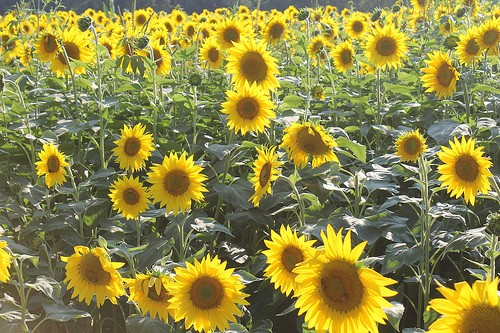flower: (288, 224, 403, 331), (161, 254, 252, 331), (59, 236, 128, 309), (424, 267, 500, 332), (260, 223, 322, 298), (434, 134, 496, 206), (145, 150, 211, 216), (222, 35, 282, 99), (218, 78, 277, 137), (277, 120, 339, 172), (48, 23, 95, 83), (247, 143, 287, 208), (361, 23, 410, 72), (418, 47, 463, 100), (111, 122, 158, 172), (106, 173, 150, 222), (33, 141, 70, 190), (392, 128, 430, 169), (209, 16, 252, 51), (257, 15, 295, 48), (454, 27, 484, 64), (330, 38, 357, 74), (198, 37, 225, 70), (476, 17, 500, 53), (344, 14, 368, 38)
